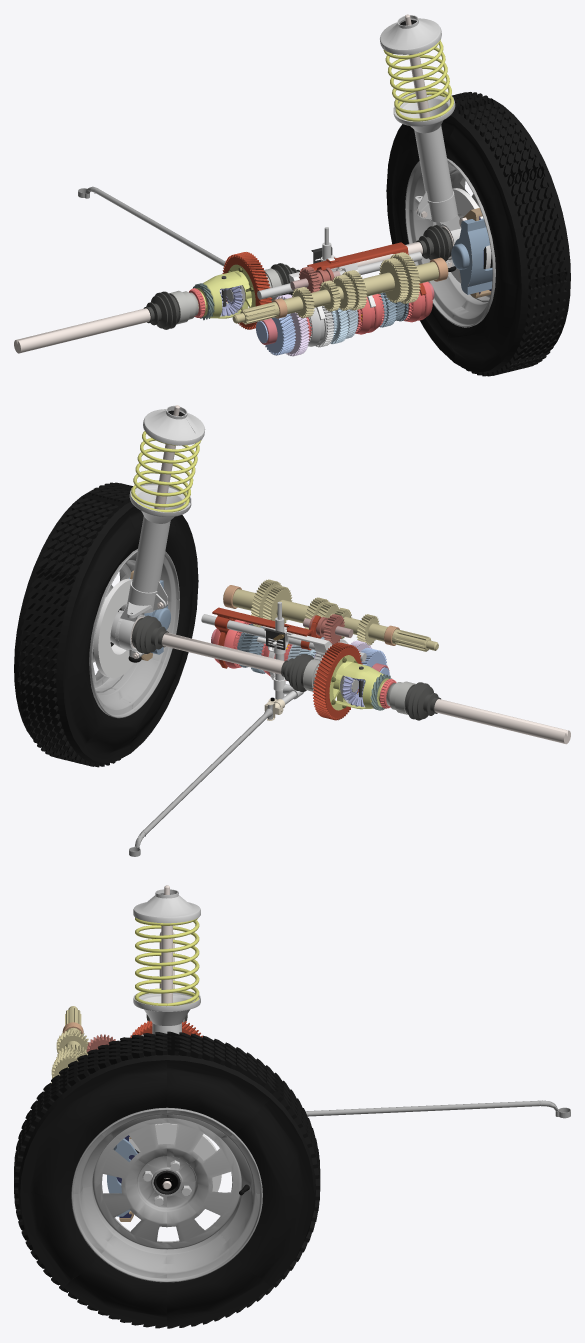
The model's file is gearbox.glb.
3 renders of one model, top to bottom at view 1: azimuth 30°, elevation 25°; view 2: azimuth 150°, elevation 25°; view 3: azimuth 270°, elevation 25°, orthographic. The views are drawn at different scales.
Visible parts, largest first — view 1: TYRE-LH-F_99, Input Shaft_31, WHEEL-LH-F_103, MAC-2-LH-F_87, SPRING-2-LH-F_93, Right Wheel Axle Shaft_27, CALIP-2-LH-F_1, MAC-1-LH-F_86, Housing.001_22, Ring Gear_28, HUB CAR-LH-F_85, GEAR CHANGE-5_36 (+14 smaller); view 2: TYRE-LH-F_99, WHEEL-LH-F_103, Input Shaft_31, MAC-2-LH-F_87, DISK-LH-F_96, SPRING-2-LH-F_93, Right Wheel Axle Shaft_27, MAC-1-LH-F_86, Left Wheel Axle Shaft_23, Ring Gear_28, HUB CAR-LH-F_85, Housing.001_22 (+9 smaller); view 3: TYRE-LH-F_99, WHEEL-LH-F_103, SPRING-2-LH-F_93, GEAR CHANGE-5_36, MAC-1-LH-F_86, MAC-2-LH-F_87, Input Shaft_31, DISK-LH-F_96, ROD-2-LH-F_91, CALIP-1-LH-F_0.
Part boxes in pixels (left/top/right/bottom): TYRE-LH-F_99: left=386, top=92, right=570, bottom=376; Input Shaft_31: left=232, top=252, right=448, bottom=324; WHEEL-LH-F_103: left=405, top=158, right=495, bottom=327; MAC-2-LH-F_87: left=393, top=91, right=455, bottom=216; SPRING-2-LH-F_93: left=383, top=39, right=451, bottom=113; Right Wheel Axle Shaft_27: left=14, top=308, right=150, bottom=353; CALIP-2-LH-F_1: left=451, top=219, right=484, bottom=294; MAC-1-LH-F_86: left=380, top=15, right=441, bottom=54; Housing.001_22: left=196, top=264, right=255, bottom=318; Ring Gear_28: left=222, top=252, right=272, bottom=329; HUB CAR-LH-F_85: left=415, top=190, right=463, bottom=266; GEAR CHANGE-5_36: left=78, top=186, right=225, bottom=266; TYRE-LH-F_99: left=14, top=482, right=198, bottom=767; WHEEL-LH-F_103: left=89, top=549, right=179, bottom=718; Input Shaft_31: left=223, top=579, right=438, bottom=651; MAC-2-LH-F_87: left=129, top=483, right=191, bottom=605; DISK-LH-F_96: left=93, top=578, right=133, bottom=678; SPRING-2-LH-F_93: left=131, top=431, right=201, bottom=507; Right Wheel Axle Shaft_27: left=434, top=699, right=570, bottom=744; MAC-1-LH-F_86: left=143, top=405, right=205, bottom=445; Left Wheel Axle Shaft_23: left=162, top=632, right=284, bottom=674; Ring Gear_28: left=312, top=642, right=362, bottom=720; HUB CAR-LH-F_85: left=110, top=581, right=167, bottom=658; Housing.001_22: left=329, top=655, right=388, bottom=710; TYRE-LH-F_99: left=14, top=1031, right=320, bottom=1328; WHEEL-LH-F_103: left=71, top=1107, right=262, bottom=1282; SPRING-2-LH-F_93: left=135, top=917, right=199, bottom=1005; GEAR CHANGE-5_36: left=305, top=1100, right=570, bottom=1118; MAC-1-LH-F_86: left=133, top=889, right=200, bottom=923; MAC-2-LH-F_87: left=133, top=990, right=200, bottom=1034; Input Shaft_31: left=51, top=1006, right=88, bottom=1083; DISK-LH-F_96: left=129, top=1123, right=221, bottom=1191; ROD-2-LH-F_91: left=161, top=885, right=172, bottom=1003; CALIP-1-LH-F_0: left=107, top=1138, right=137, bottom=1216.
Size of the model in its own units: 32.14 by 22.74 by 29.02.
